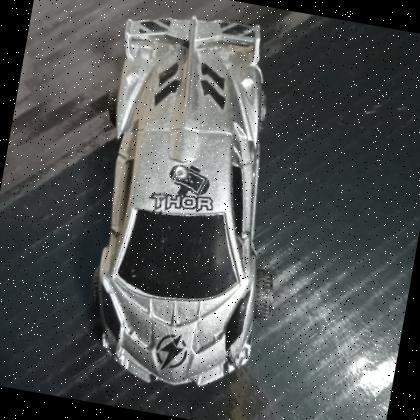Car: (94, 18, 270, 388)
